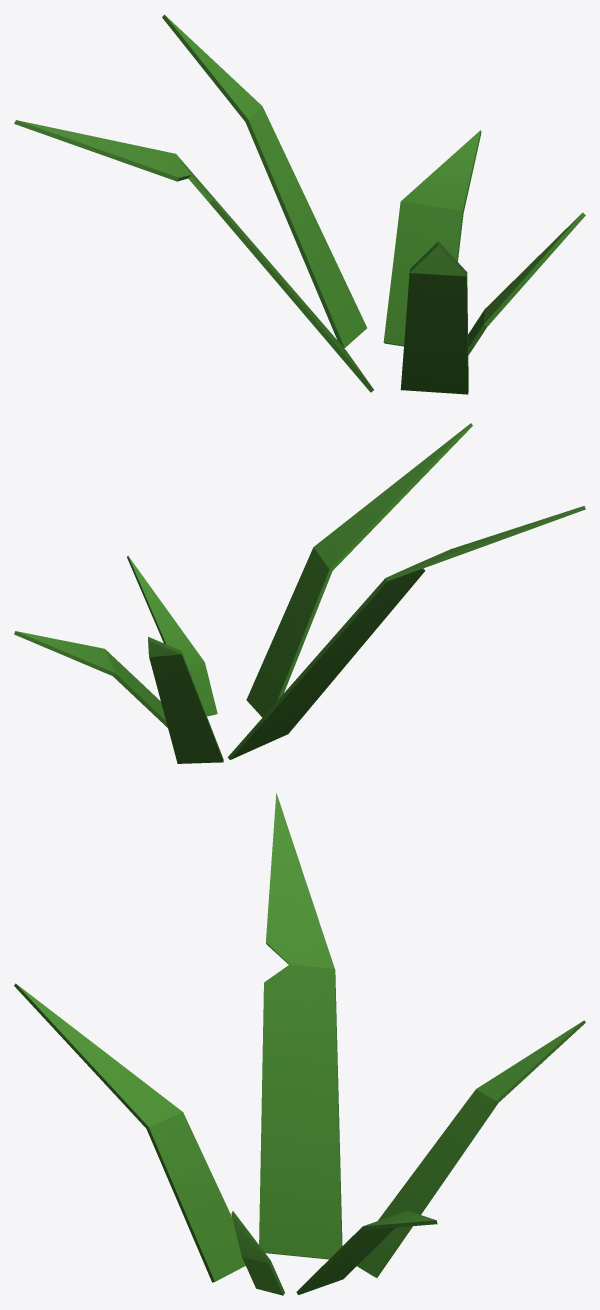
Rendered from grass_patch_06_solidified.fbx.
The picture shows the model from 3 angles, top to bottom: view 1: azimuth 30°, elevation 25°; view 2: azimuth 150°, elevation 25°; view 3: azimuth 270°, elevation 25°; orthographic projection. The views are drawn at different scales.
Visible parts, largest first — view 1: grass_patch_06_solidified; view 2: grass_patch_06_solidified; view 3: grass_patch_06_solidified.
Boxes of the visible parts, bbox=[...] form: grass_patch_06_solidified: bbox=[14, 14, 585, 394]; grass_patch_06_solidified: bbox=[14, 423, 585, 763]; grass_patch_06_solidified: bbox=[14, 793, 585, 1295].
Size of the model in its own units: 1 by 0.6 by 1.
Materials: 1 (1 with a texture image).
